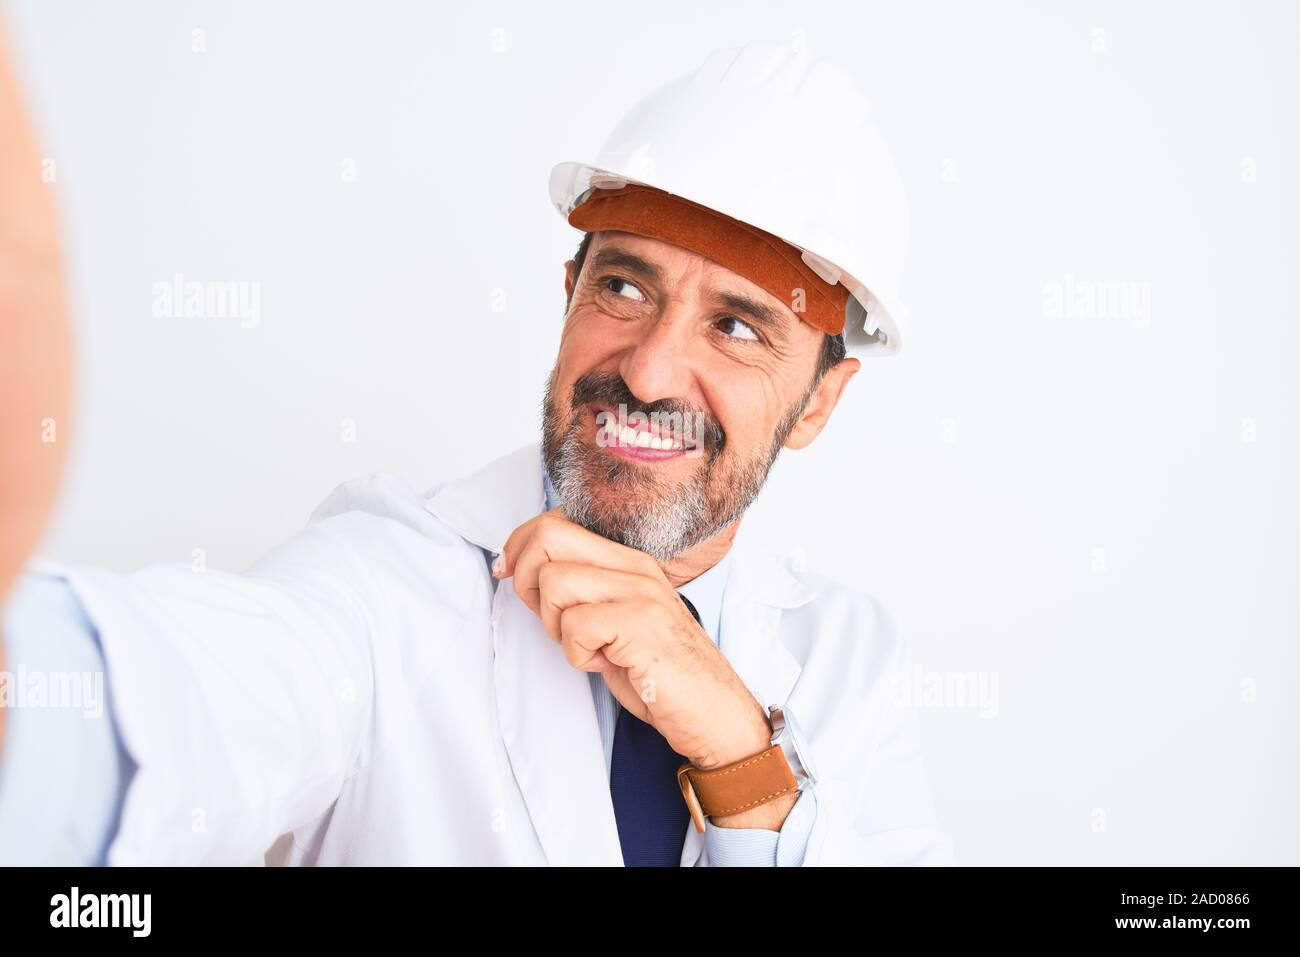helmet: (544, 43, 929, 355)
